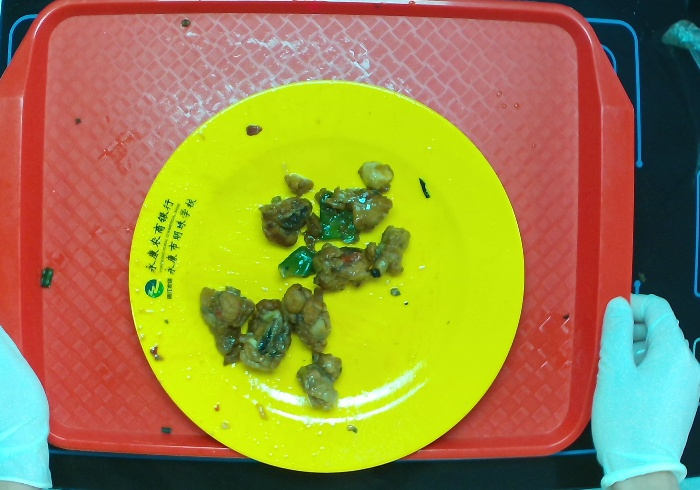YKMZ-Huang_Se_Mian_Pan: (122, 82, 525, 477)
